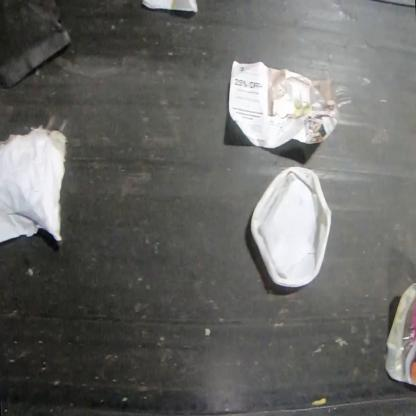rigid_plastic: (250, 166, 332, 289), (0, 1, 71, 90)
soft_plastic: (384, 280, 415, 392)
